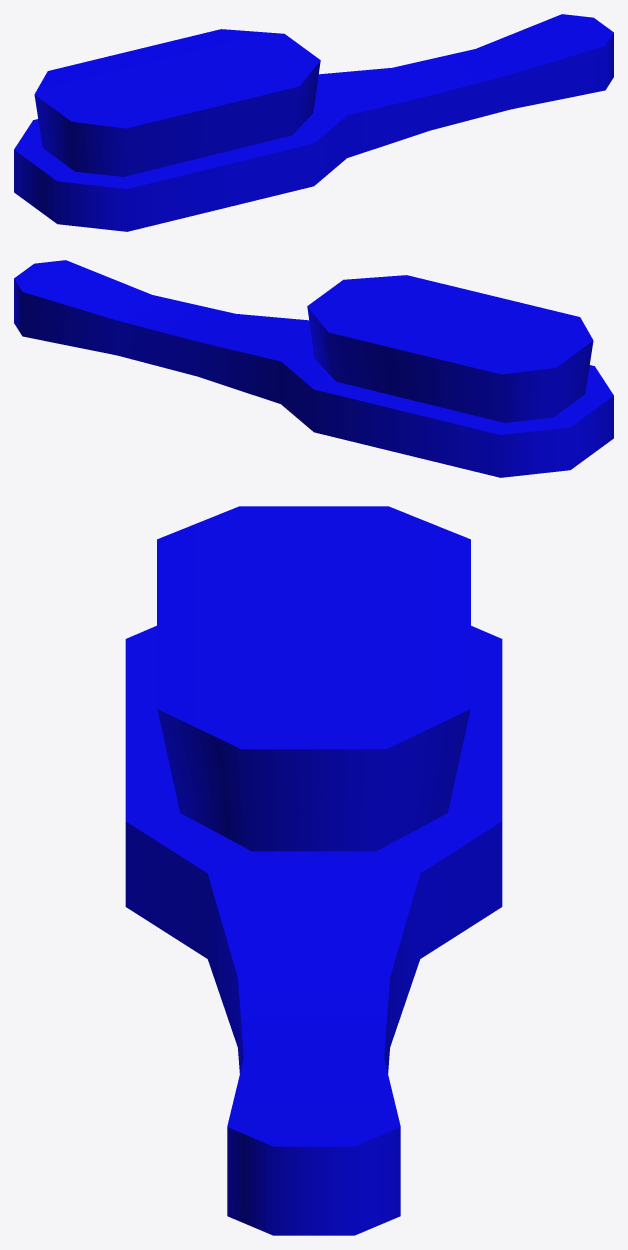
File: Tool_Brush.fbx
The picture shows the model from 3 angles, top to bottom: view 1: azimuth 30°, elevation 25°; view 2: azimuth 150°, elevation 25°; view 3: azimuth 270°, elevation 25°; orthographic projection. The views are drawn at different scales.
Parts seen in each view (by area): view 1: Tool_Brush; view 2: Tool_Brush; view 3: Tool_Brush.
Part boxes in pixels (x1,y1,x2,y2): Tool_Brush: (14, 14, 613, 231); Tool_Brush: (14, 260, 613, 477); Tool_Brush: (125, 506, 502, 1235).
Bounding box in the file's own units: 112 × 18.06 × 32.04.
